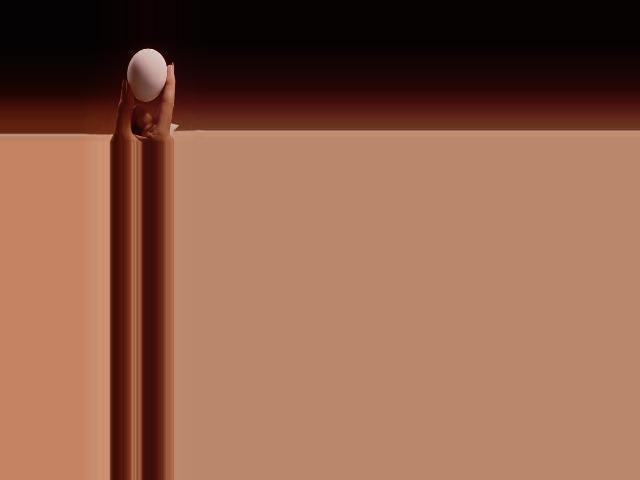egg: (126, 49, 166, 103)
